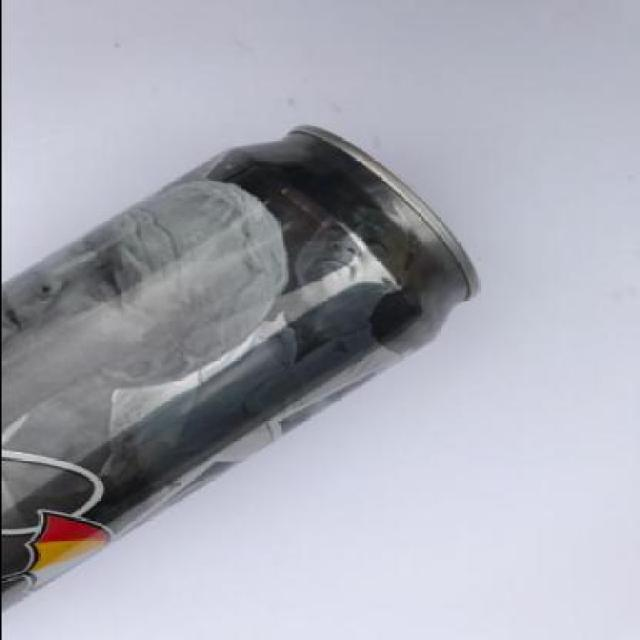METAL: (1, 125, 477, 617)
